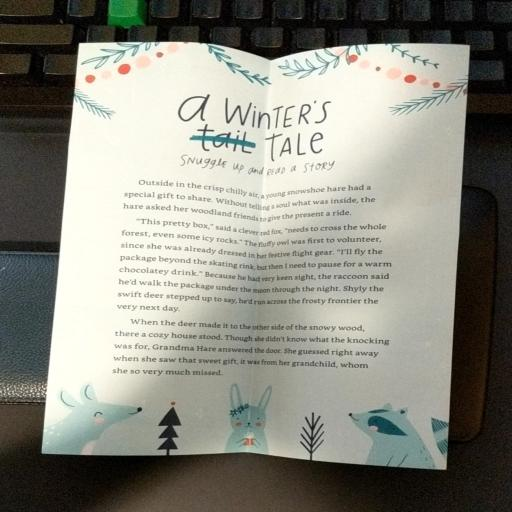paper: (18, 15, 512, 512)
